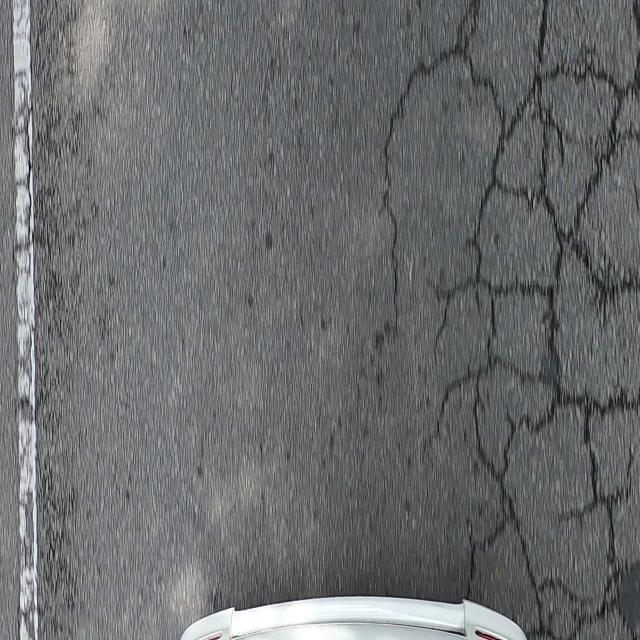Retak-Buaya: (433, 0, 640, 640)
